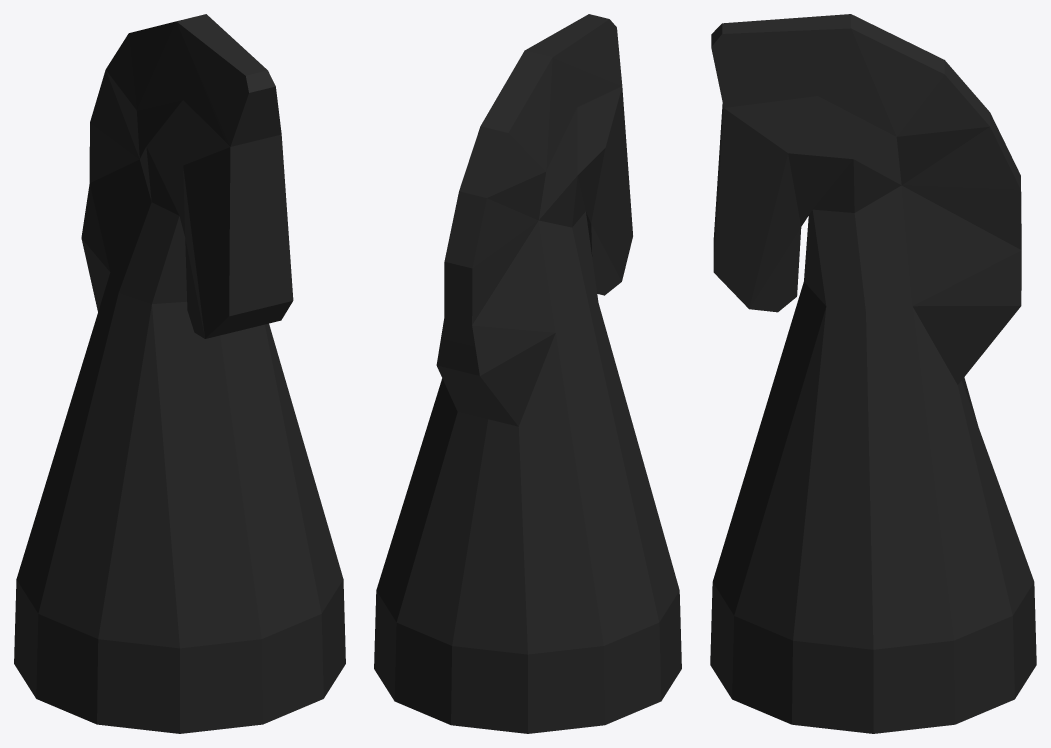
Rendered from chessKnight.glb.
The picture shows the model from 3 angles, left to right: view 1: azimuth 30°, elevation 25°; view 2: azimuth 150°, elevation 25°; view 3: azimuth 270°, elevation 25°; orthographic projection. The views are drawn at different scales.
Visible parts, largest first — view 1: SM_Chess_Knight; view 2: SM_Chess_Knight; view 3: SM_Chess_Knight.
Part boxes in pixels (box(x1,y1,x2,y2)): SM_Chess_Knight: box(14, 14, 345, 733); SM_Chess_Knight: box(374, 14, 681, 733); SM_Chess_Knight: box(710, 14, 1036, 733).
Bounding box in the file's own units: 0.0398 × 0.0866 × 0.0398.
Materials: 1 (1 with a texture image).
